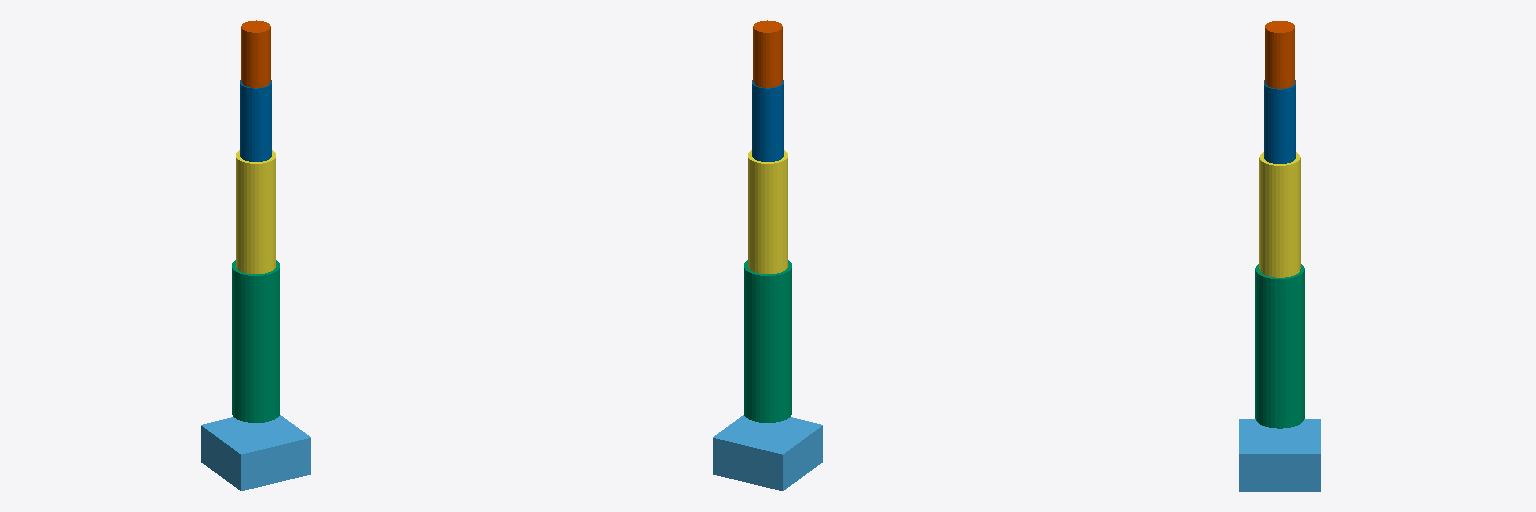
The robot description file, URDF, robot "mycobot_csv_test_four":
<?xml version="1.0"?>
<robot name="mycobot_csv_test_four">

  <link name="world"/>

  <link name="base_link">
    <visual><geometry><box size="0.1 0.1 0.05"/></geometry></visual>
  </link>

  <joint name="base_fixed" type="fixed">
    <parent link="world"/>
    <child  link="base_link"/>
  </joint>

  <link name="link_1">
    <visual><geometry><cylinder length="0.2" radius="0.03"/></geometry>
    <origin xyz="0 0 0.1"/></visual>
  </link>

  <joint name="joint_1" type="continuous">
    <parent link="base_link"/>
    <child  link="link_1"/>
    <origin xyz="0 0 0.05" rpy="0 0 0"/>
    <axis xyz="0 0 1"/>
    <limit effort="100" velocity="2.0"/>
  </joint>

  <link name="link_2">
    <visual><geometry><cylinder length="0.15" radius="0.025"/></geometry>
    <origin xyz="0 0 0.075"/></visual>
  </link>

  <joint name="joint_2" type="continuous">
    <parent link="link_1"/>
    <child  link="link_2"/>
    <origin xyz="0 0 0.2" rpy="0 0 0"/>
    <axis xyz="0 1 0"/>
    <limit effort="100" velocity="2.0"/>
  </joint>

  <link name="link_3">
    <visual><geometry><cylinder length="0.10" radius="0.020"/></geometry>
    <origin xyz="0 0 0.05"/></visual>
  </link>

  <joint name="joint_3" type="continuous">
    <parent link="link_2"/>
    <child  link="link_3"/>
    <origin xyz="0 0 0.15" rpy="0 0 0"/>
    <axis xyz="0 1 0"/>
    <limit effort="100" velocity="2.0"/>
  </joint>

  <link name="link_4">
    <visual><geometry><cylinder length="0.075" radius="0.018"/></geometry>
    <origin xyz="0 0 0.0375"/></visual>
  </link>

  <joint name="joint_4" type="continuous">
    <parent link="link_3"/>
    <child  link="link_4"/>
    <origin xyz="0 0 0.10" rpy="0 0 0"/>
    <axis xyz="0 1 0"/>
    <limit effort="100" velocity="2.0"/>
  </joint>

  <ros2_control name="MyCobotCSVFourJoints" type="system">

    <hardware>
      <plugin>mycobot_csv/MyCobotCSV</plugin>
      <param name="ifname">enx00e04c360d9d</param>
    </hardware>

    <joint name="joint_1">
      <param name="slave_index">1</param>
      <param name="counts_per_rad">2085932.0</param>
      <command_interface name="velocity">
        <param name="min">-2.0</param>
        <param name="max"> 2.0</param>
      </command_interface>
      <state_interface name="position"/>
      <state_interface name="velocity"/>
    </joint>

    <joint name="joint_2">
      <param name="slave_index">2</param>
      <param name="counts_per_rad">2085932.0</param>
      <command_interface name="velocity">
        <param name="min">-2.0</param>
        <param name="max"> 2.0</param>
      </command_interface>
      <state_interface name="position"/>
      <state_interface name="velocity"/>
    </joint>

    <joint name="joint_3">
      <param name="slave_index">3</param>
      <param name="counts_per_rad">2085932.0</param>
      <command_interface name="velocity">
        <param name="min">-2.0</param>
        <param name="max"> 2.0</param>
      </command_interface>
      <state_interface name="position"/>
      <state_interface name="velocity"/>
    </joint>

    <joint name="joint_4">
      <param name="slave_index">4</param>
      <param name="counts_per_rad">2085932.0</param>
      <command_interface name="velocity">
        <param name="min">-2.0</param>
        <param name="max"> 2.0</param>
      </command_interface>
      <state_interface name="position"/>
      <state_interface name="velocity"/>
    </joint>

  </ros2_control>

</robot>

--- What the picture shows (computed from the rendered views, not written in the file) ---
The picture shows the robot from 3 angles, left to right: view 1: azimuth 30°, elevation 25°; view 2: azimuth 150°, elevation 25°; view 3: azimuth 270°, elevation 25°; orthographic projection.
Robot: mycobot_csv_test_four — 6 links, 5 joints (4 continuous, 1 fixed); root link world; default pose: all joints at 0.
Visible links, largest first — view 1: link_1, base_link, link_2, link_3, link_4; view 2: link_1, base_link, link_2, link_3, link_4; view 3: link_1, base_link, link_2, link_3, link_4.
Link boxes in pixels (x1,y1,x2,y2): link_1: (232,260,279,422); base_link: (201,415,310,490); link_2: (236,150,275,273); link_3: (240,80,271,161); link_4: (241,20,270,87); link_1: (744,260,791,422); base_link: (713,415,822,490); link_2: (748,150,787,273); link_3: (752,80,783,161); link_4: (753,20,782,87); link_1: (1255,264,1304,428); base_link: (1239,419,1320,491); link_2: (1259,152,1300,277); link_3: (1264,80,1295,163); link_4: (1265,21,1294,88).
Bounding box of the posed robot: 0.1 × 0.1 × 0.6 m (x, y, z).
Geometry: primitives only (box / cylinder / sphere), no mesh files.
